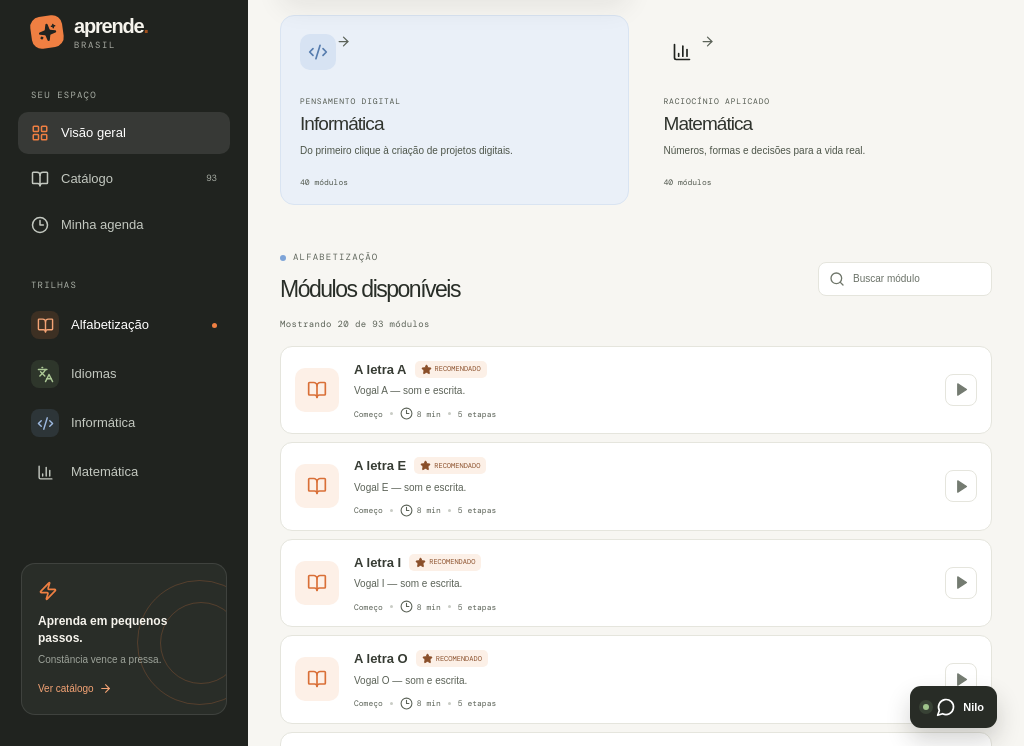
Test case: painel inicial › abre os detalhes em um diálogo acessível e fecha com Escape
(page scrolled)
Click the button "A letra A" at (380, 369), box [354,360,406,379]
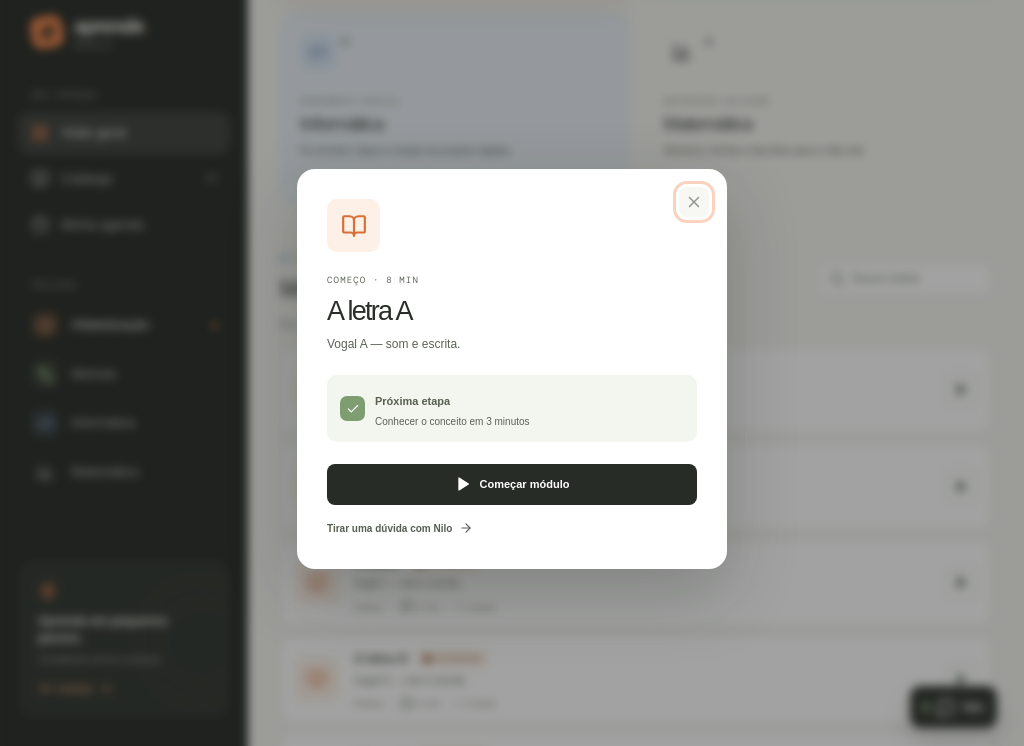
Check: the heading "A letra A" is shown, box [327,296,412,326]
Press Escape
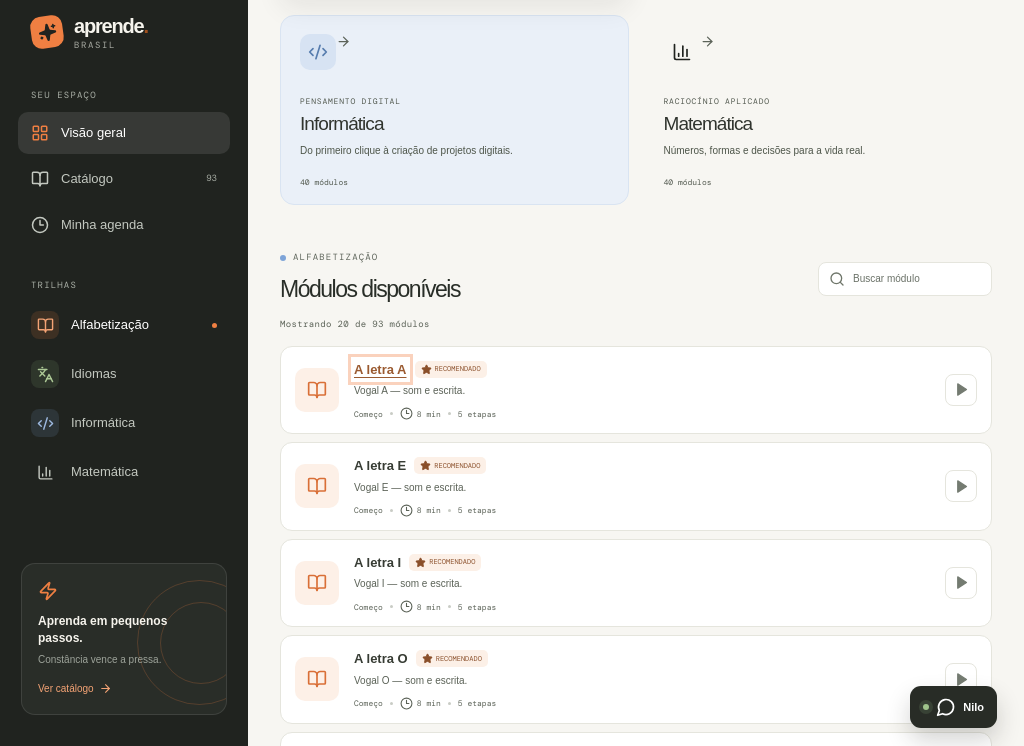
Check: the dialog is gone
